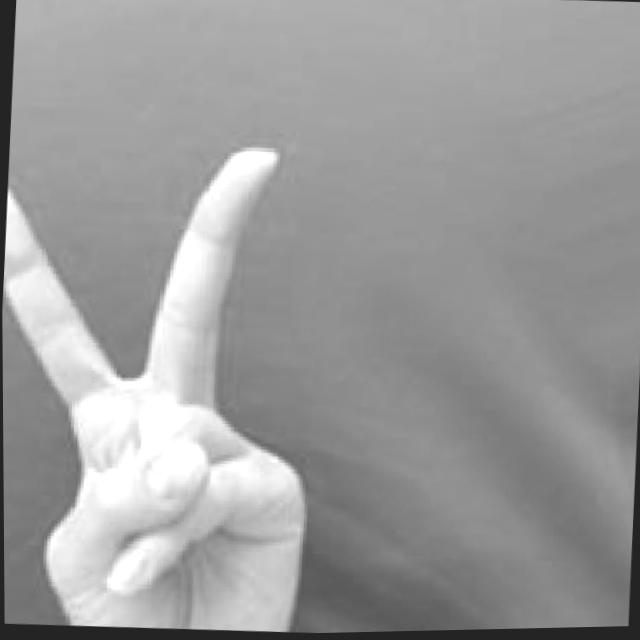V: (1, 130, 339, 639)
